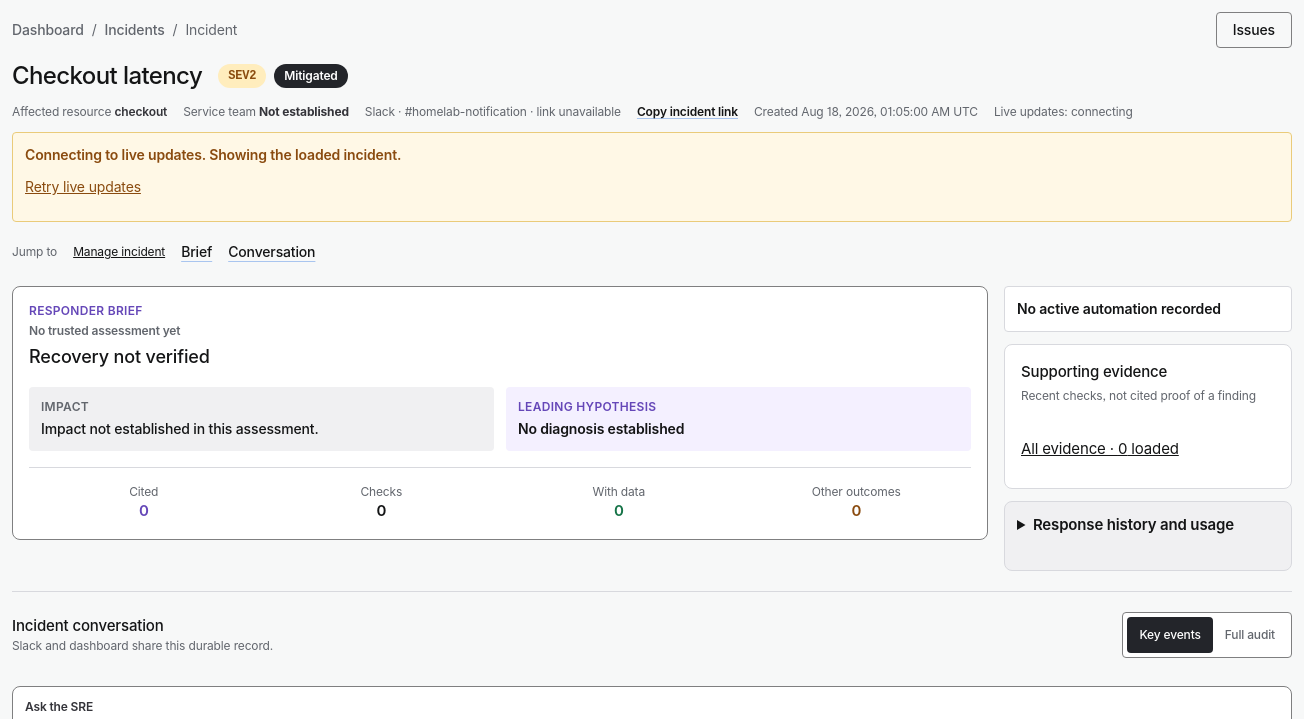
Test: incident response workspace › presents a shareable incident page with breadcrumbs and a distinct browser title
Expected: the heading "Checkout latency" is shown, x1=12 y1=60 x2=202 y2=92
Expected: the button "Issues" is shown, x1=1216 y1=12 x2=1292 y2=48
Step 1. Click the button "Copy incident link" → (687, 112), box x1=637 y1=104 x2=738 y2=120
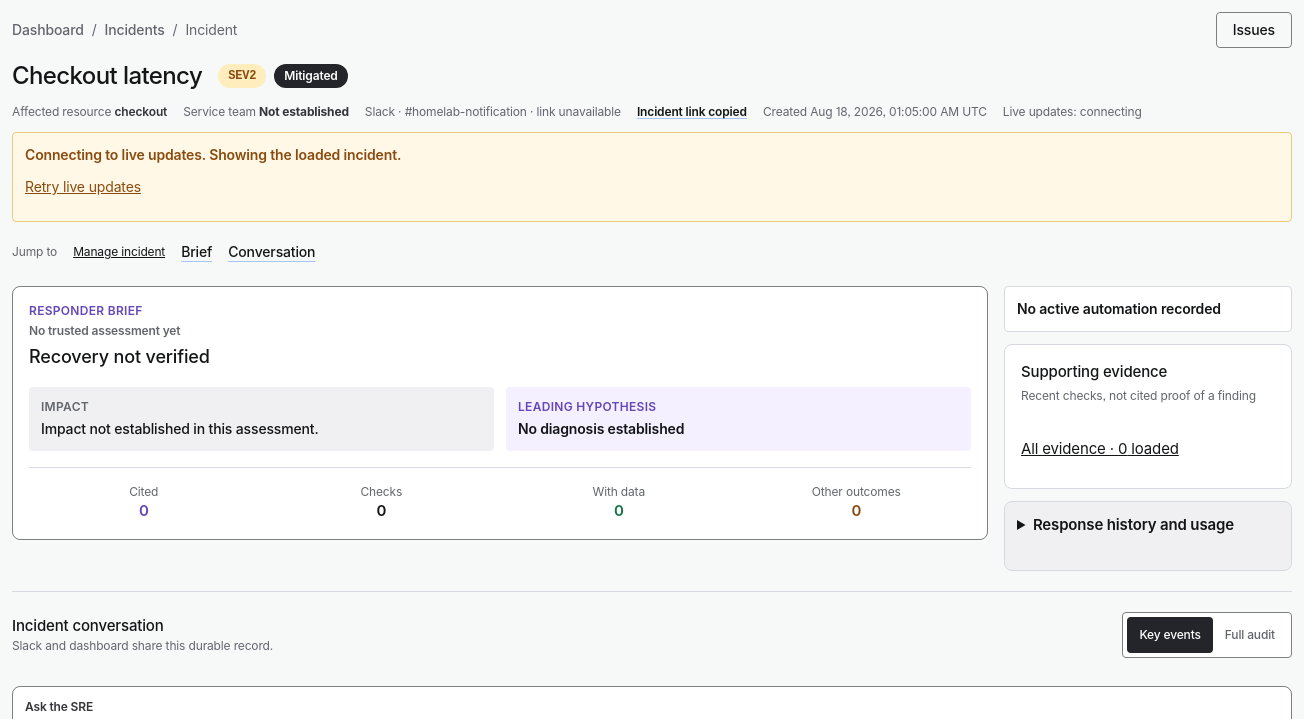
Expected: the button "Incident link copied" is shown, x1=637 y1=104 x2=747 y2=120
